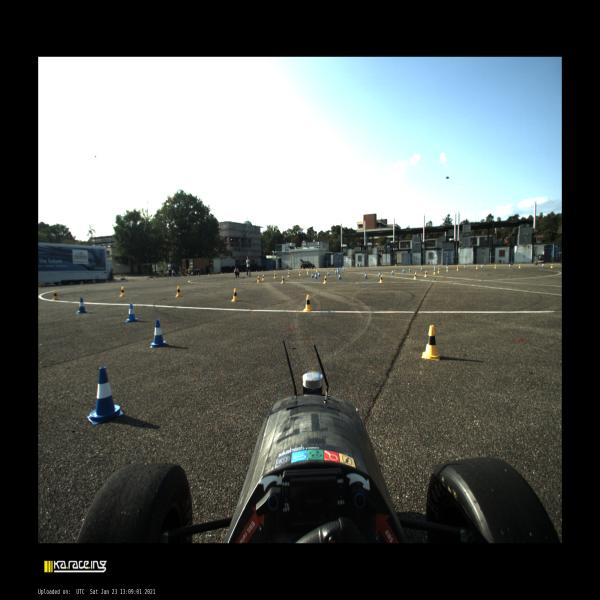blue_cone: (87, 366, 124, 426), (150, 318, 167, 348), (125, 303, 139, 322), (76, 298, 89, 314), (364, 272, 368, 279), (541, 262, 545, 268), (314, 273, 318, 278), (508, 263, 512, 268), (338, 273, 341, 279), (391, 269, 394, 275), (311, 272, 314, 278), (328, 270, 330, 276), (318, 271, 320, 277), (378, 271, 380, 277), (402, 268, 404, 273), (409, 268, 411, 272), (335, 270, 337, 274), (481, 264, 483, 268), (464, 264, 466, 268), (337, 269, 339, 273), (434, 266, 436, 270), (446, 265, 448, 269), (126, 278, 128, 281), (209, 273, 211, 276), (421, 266, 422, 270), (167, 276, 169, 278), (147, 277, 148, 280), (225, 272, 226, 275), (343, 268, 344, 271), (196, 274, 197, 276), (322, 268, 323, 270), (339, 268, 340, 270), (256, 270, 257, 272), (241, 272, 242, 273), (272, 270, 272, 272), (300, 268, 300, 271)
large_orange_cone: (198, 272, 199, 277)
yellow_cone: (421, 324, 441, 362), (302, 294, 312, 312), (230, 288, 238, 302), (175, 286, 182, 298), (52, 289, 59, 301), (119, 286, 126, 297), (378, 274, 383, 283), (280, 276, 285, 284), (323, 275, 327, 284), (413, 272, 417, 279), (424, 270, 427, 277), (262, 274, 265, 281), (257, 276, 260, 283), (287, 272, 290, 278), (518, 263, 521, 269), (550, 263, 553, 269), (298, 270, 301, 276), (433, 269, 436, 274), (446, 267, 449, 272), (274, 273, 276, 279), (307, 269, 309, 275), (106, 280, 109, 284), (438, 268, 440, 273), (456, 266, 458, 271), (494, 264, 496, 269), (39, 283, 41, 288), (80, 282, 83, 285), (476, 265, 478, 269), (187, 274, 189, 278), (131, 279, 133, 282), (171, 276, 173, 279), (221, 272, 223, 275), (316, 268, 318, 271), (274, 269, 276, 272), (287, 269, 289, 271), (153, 277, 154, 280), (208, 273, 209, 276), (311, 268, 312, 271), (262, 270, 263, 272), (317, 270, 318, 272), (314, 268, 315, 270)
